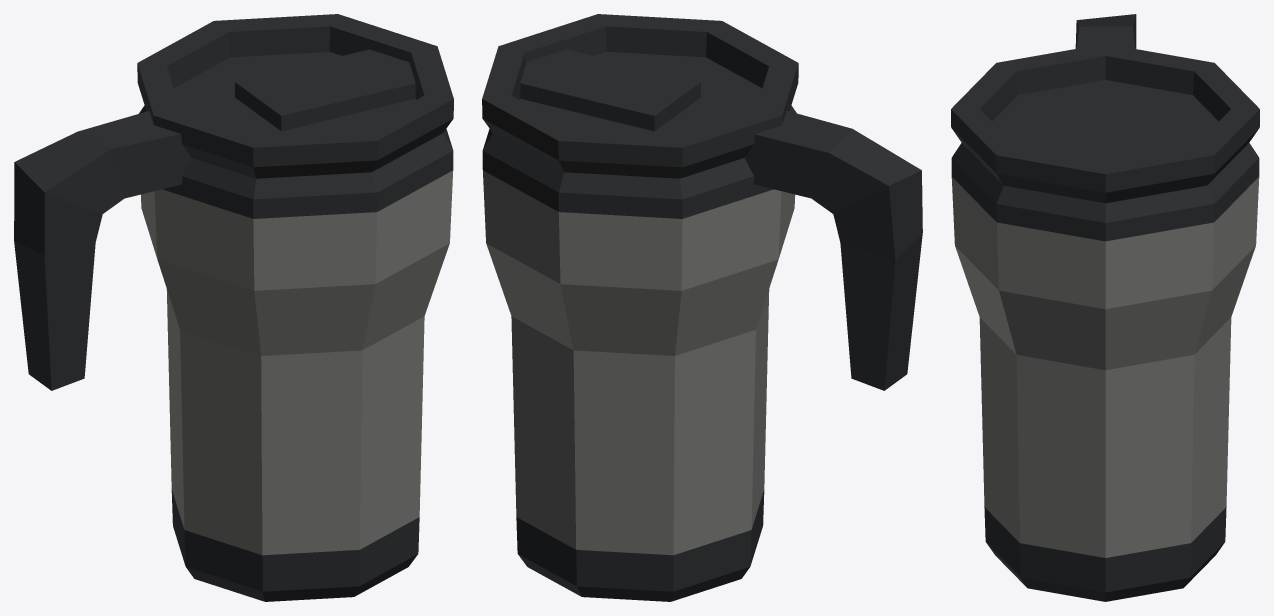
Rendered from SM_Item_Flask_01.fbx.
The picture shows the model from 3 angles, left to right: view 1: azimuth 30°, elevation 25°; view 2: azimuth 150°, elevation 25°; view 3: azimuth 270°, elevation 25°; orthographic projection. The views are drawn at different scales.
Visible parts, largest first — view 1: SM_Item_Flask_01; view 2: SM_Item_Flask_01; view 3: SM_Item_Flask_01.
Boxes of the visible parts, bbox=[...] form: SM_Item_Flask_01: bbox=[14, 14, 453, 601]; SM_Item_Flask_01: bbox=[482, 14, 922, 601]; SM_Item_Flask_01: bbox=[951, 14, 1259, 601].
Bounding box in the file's own units: 21.84 × 24.08 × 15.11.
